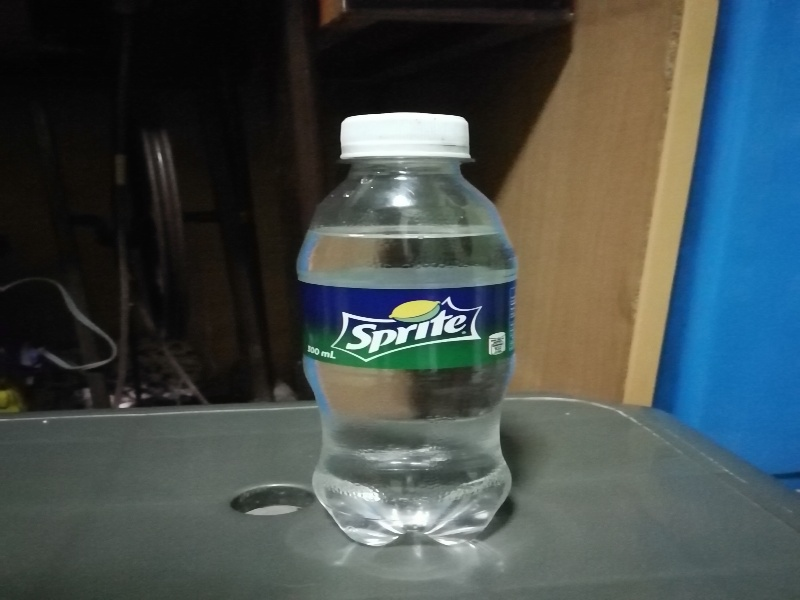PET #1: (287, 106, 518, 548)
